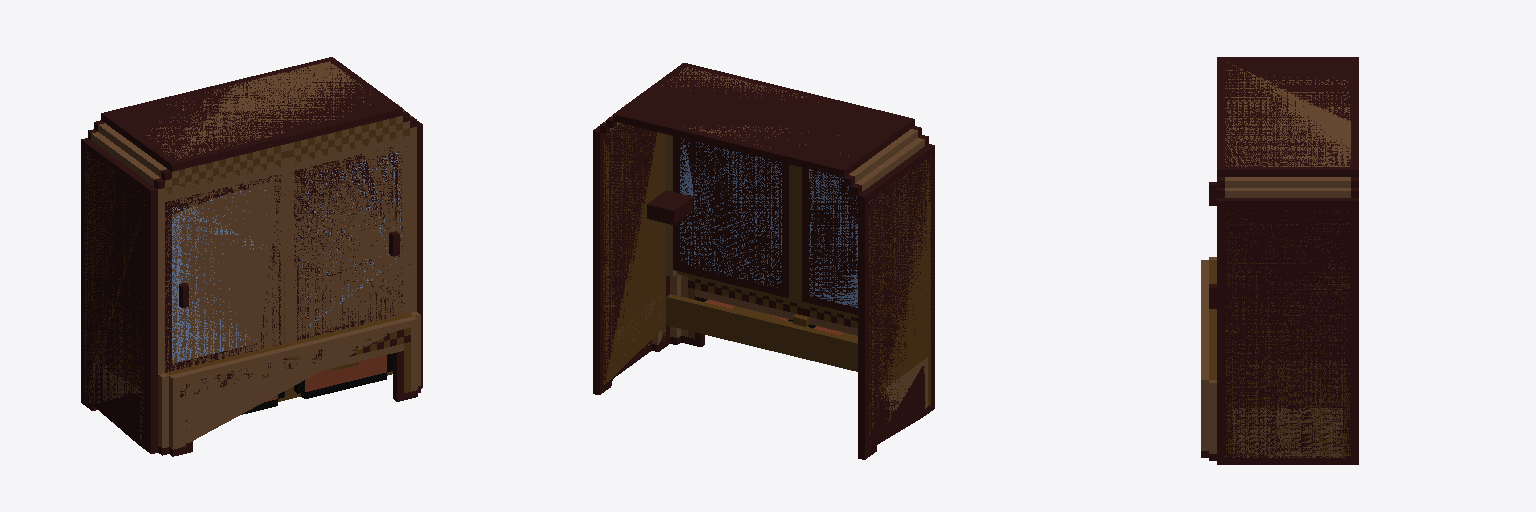
Rendered from Schrank01.obj.
The picture shows the model from 3 angles: view 1: azimuth 30°, elevation 25°; view 2: azimuth 150°, elevation 25°; view 3: azimuth 270°, elevation 25°; orthographic projection.
Parts seen in each view (by area): view 1: Schrank01_Schrank01.006; view 2: Schrank01_Schrank01.006; view 3: Schrank01_Schrank01.006.
Boxes of the visible parts, x1,y1,x2,y2 form: Schrank01_Schrank01.006: [81, 57, 422, 456]; Schrank01_Schrank01.006: [593, 63, 934, 459]; Schrank01_Schrank01.006: [1201, 57, 1358, 464].
Bounding box in the file's own units: 2.5 × 2.5 × 1.25.